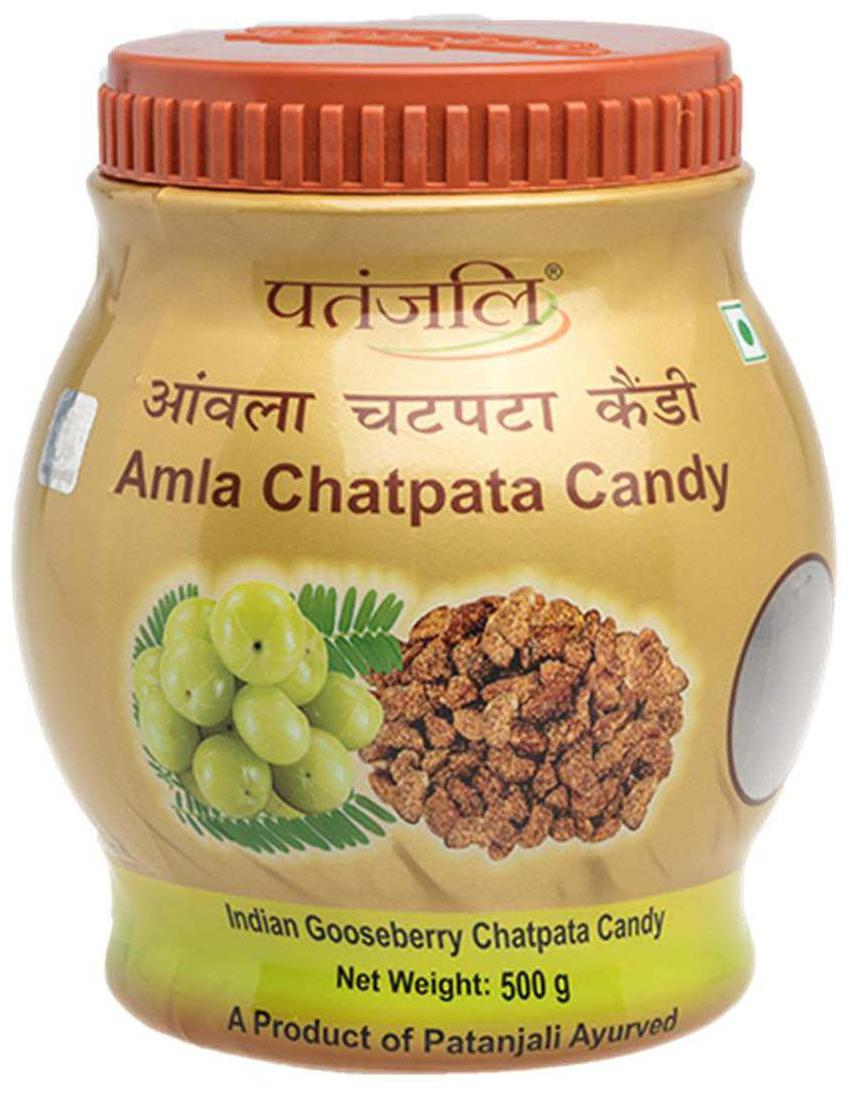JAR: (5, 8, 846, 1082)
